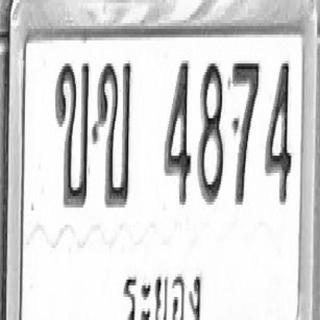A02: (93, 59, 132, 206), (54, 59, 90, 206)
N04: (163, 58, 191, 205), (264, 59, 292, 203)
N07: (230, 59, 260, 206)
N08: (196, 59, 224, 203)
P53: (119, 262, 204, 320)
